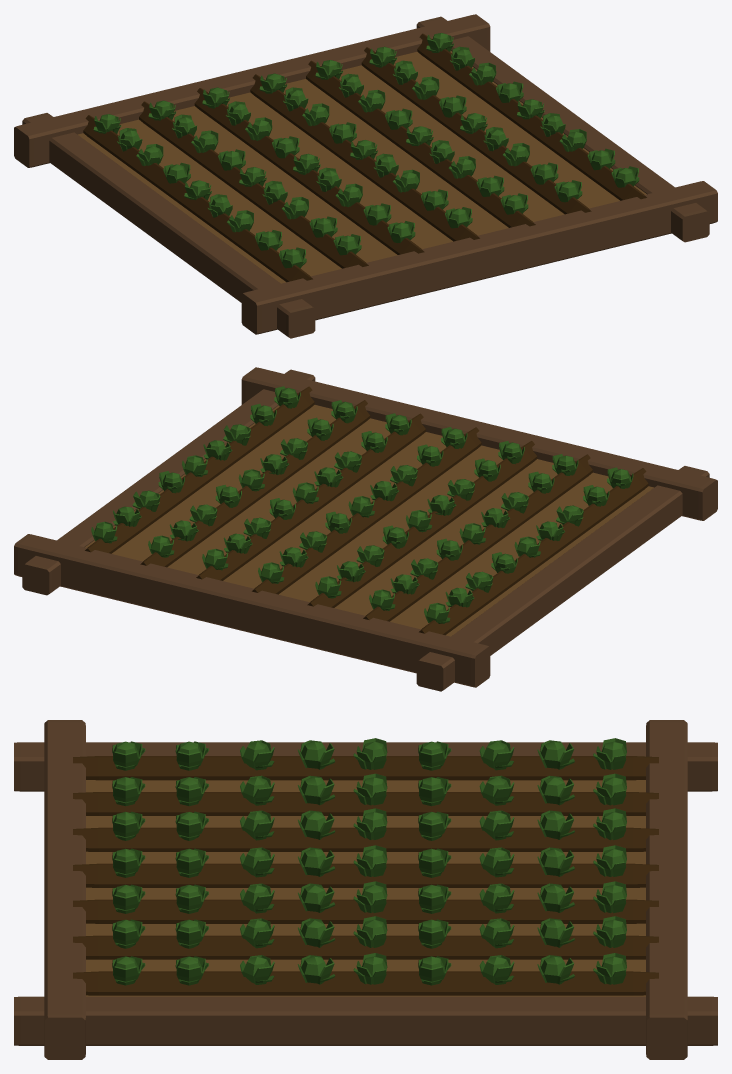
Rendered from FarmPlot#1.fbx.
The picture shows the model from 3 angles, top to bottom: view 1: azimuth 30°, elevation 25°; view 2: azimuth 150°, elevation 25°; view 3: azimuth 270°, elevation 25°; orthographic projection. The views are drawn at different scales.
Visible parts, largest first — view 1: FarmPlot#1; view 2: FarmPlot#1; view 3: FarmPlot#1.
Boxes of the visible parts, x1,y1,x2,y2 form: FarmPlot#1: [14, 14, 717, 338]; FarmPlot#1: [14, 367, 717, 691]; FarmPlot#1: [14, 720, 717, 1059].
Bounding box in the file's own units: 2404 × 239 × 2404.
